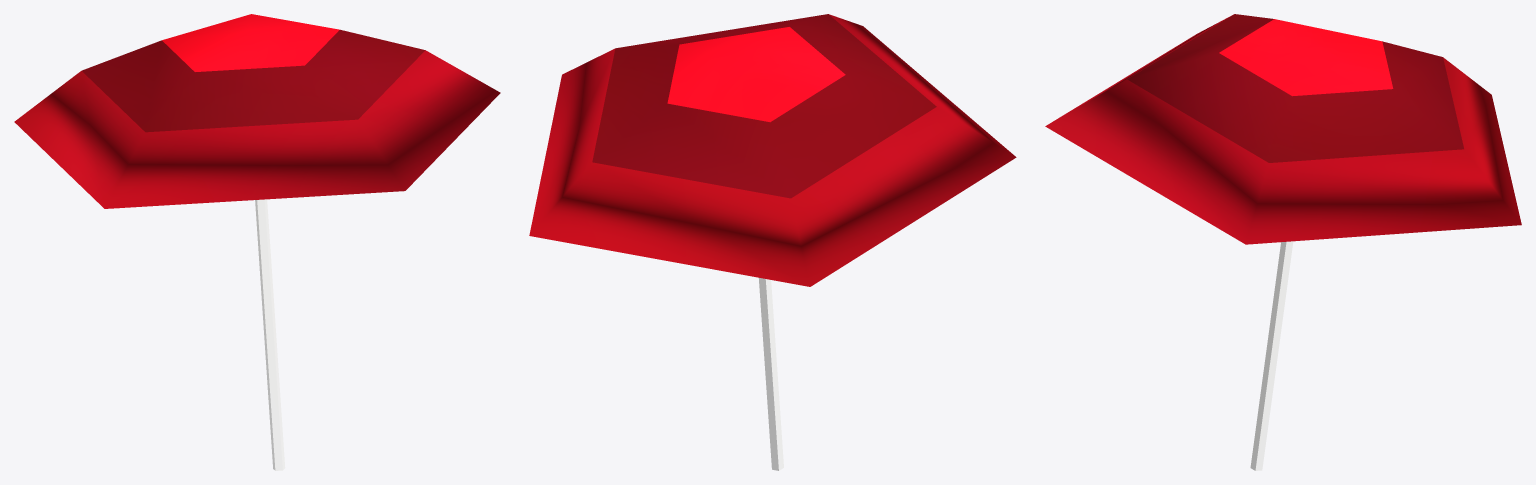
The model's file is BeachUmbrellaRed.glb.
The picture shows the model from 3 angles, left to right: view 1: azimuth 30°, elevation 25°; view 2: azimuth 150°, elevation 25°; view 3: azimuth 270°, elevation 25°; orthographic projection. The views are drawn at different scales.
Visible parts, largest first — view 1: BeachUmbrellaRed; view 2: BeachUmbrellaRed; view 3: BeachUmbrellaRed.
Boxes of the visible parts, x1=… form: BeachUmbrellaRed: x1=14, y1=14, x2=500, y2=470; BeachUmbrellaRed: x1=529, y1=14, x2=1016, y2=470; BeachUmbrellaRed: x1=1045, y1=14, x2=1521, y2=470.
Bounding box in the file's own units: 2.41 × 2.28 × 2.35.
1 material, 1 textured.
